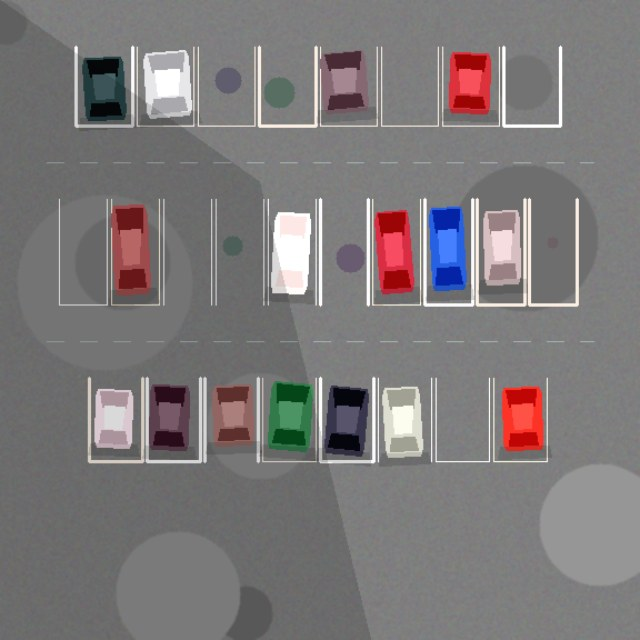space-empty: (59, 199, 107, 304), (163, 199, 211, 304), (320, 199, 368, 304), (529, 199, 577, 304), (216, 199, 263, 304), (259, 47, 316, 126), (381, 47, 438, 126), (503, 47, 560, 126), (198, 47, 254, 126), (436, 378, 489, 461)
space-occupied: (111, 199, 159, 304), (268, 199, 316, 304), (372, 199, 420, 304), (424, 199, 472, 304), (477, 199, 524, 304), (320, 47, 377, 126), (442, 47, 499, 126), (204, 378, 258, 461), (262, 378, 316, 461), (493, 378, 547, 461), (76, 47, 132, 126), (137, 47, 193, 126), (89, 378, 142, 461), (147, 378, 200, 461), (320, 378, 373, 461), (378, 378, 431, 461)
